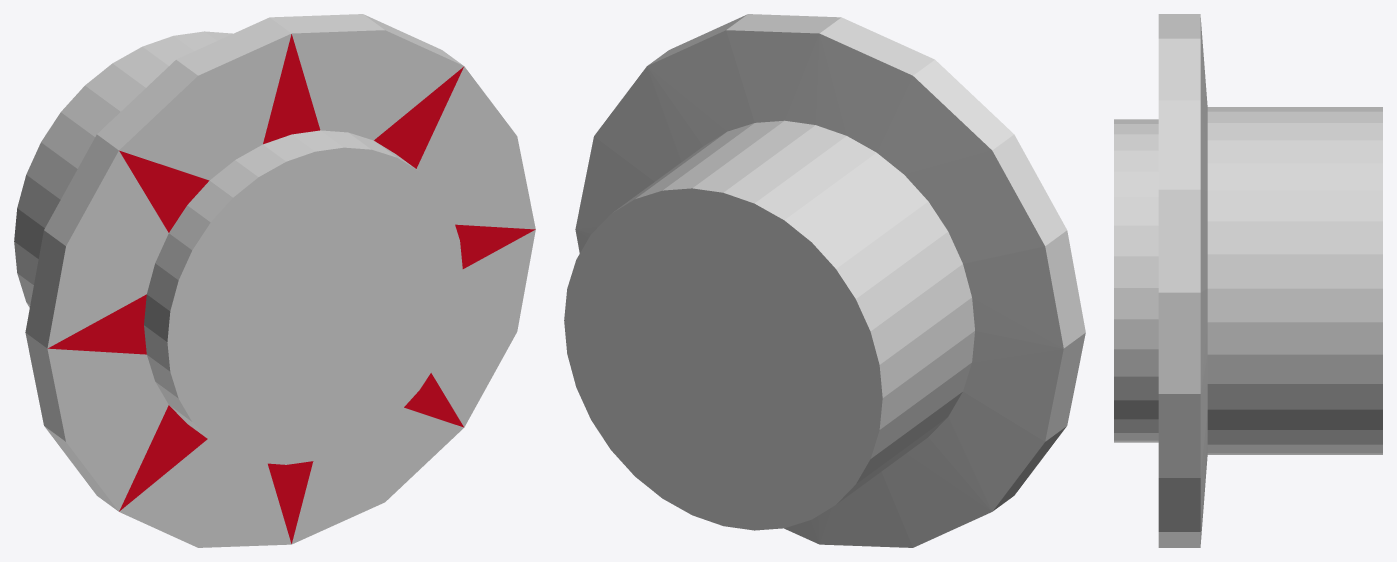
The model's file is Bumper.fbx.
3 views of the same model, side by side, from view 1: azimuth 30°, elevation 25°; view 2: azimuth 150°, elevation 25°; view 3: azimuth 270°, elevation 25° (orthographic). The views are drawn at different scales.
Parts seen in each view (by area): view 1: Bumper; view 2: Bumper; view 3: Bumper.
Boxes of the visible parts, bbox=[...] form: Bumper: bbox=[14, 14, 535, 547]; Bumper: bbox=[564, 14, 1085, 547]; Bumper: bbox=[1114, 14, 1382, 547].
Bounding box in the file's own units: 2315 × 2315 × 1164.
